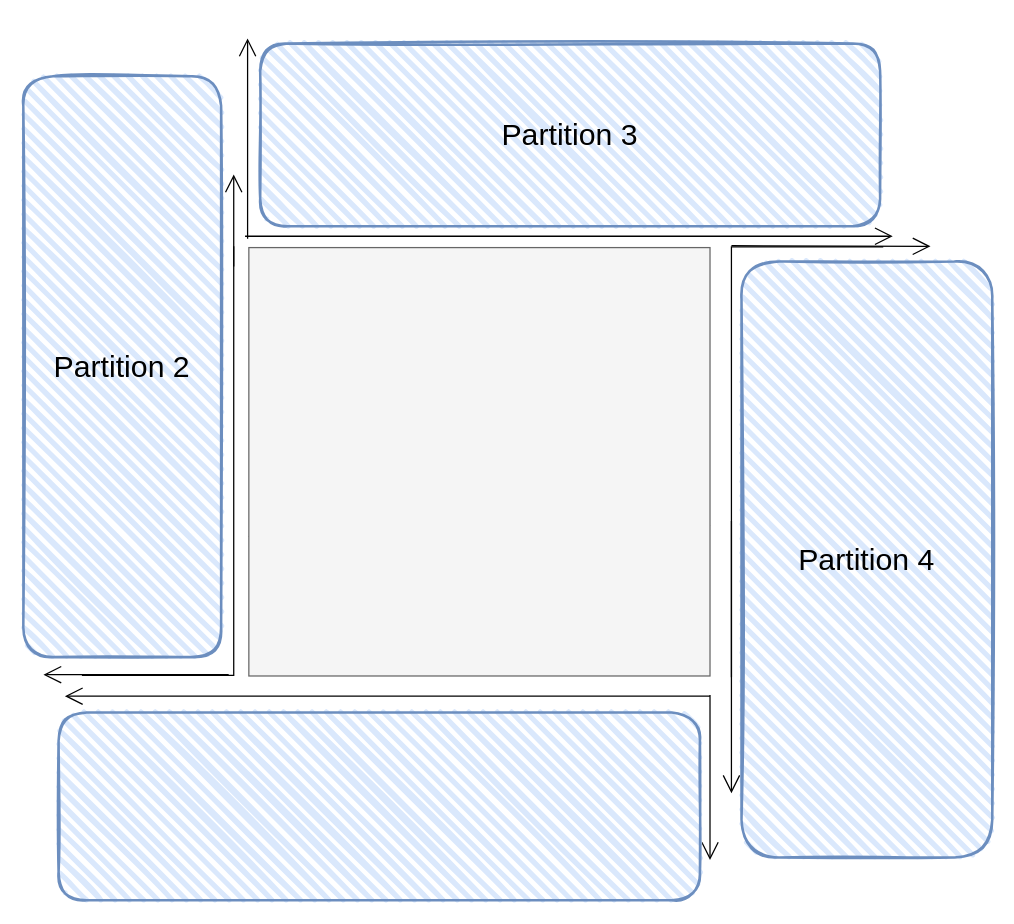
Image size: 1014x924. Some labels were removed from this diagram. Each missing label, with the box of its shape:
IC: (248, 246, 710, 676)
Partition 1: (57, 711, 701, 901)
